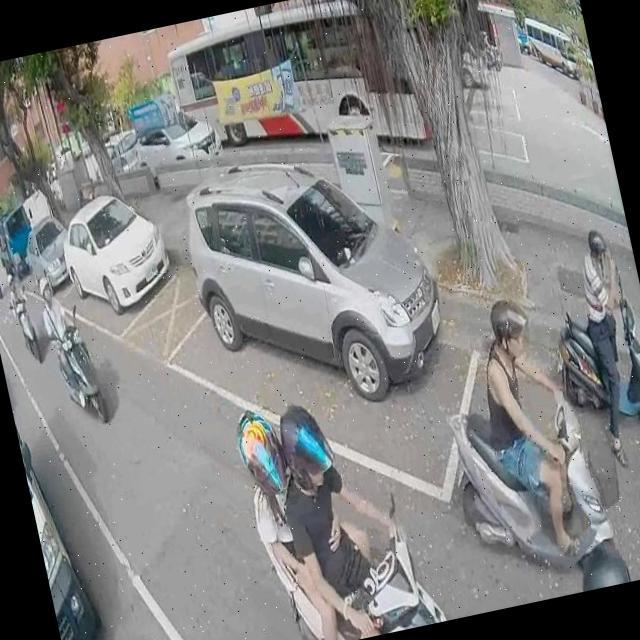person: (266, 386, 433, 640), (227, 386, 391, 640), (459, 285, 600, 573), (565, 223, 640, 465), (33, 263, 104, 414), (570, 533, 634, 592), (4, 270, 38, 350), (481, 27, 496, 59)
